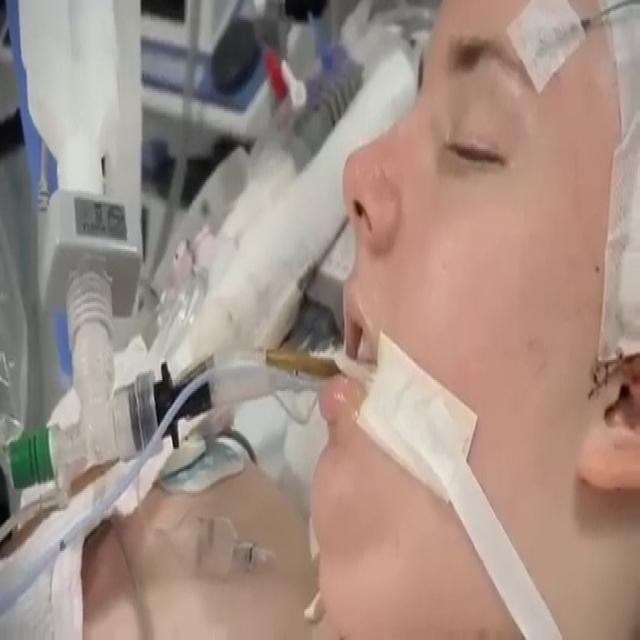monitor: (12, 0, 144, 318), (138, 0, 268, 113), (138, 0, 245, 58)
patient: (306, 0, 639, 638)
